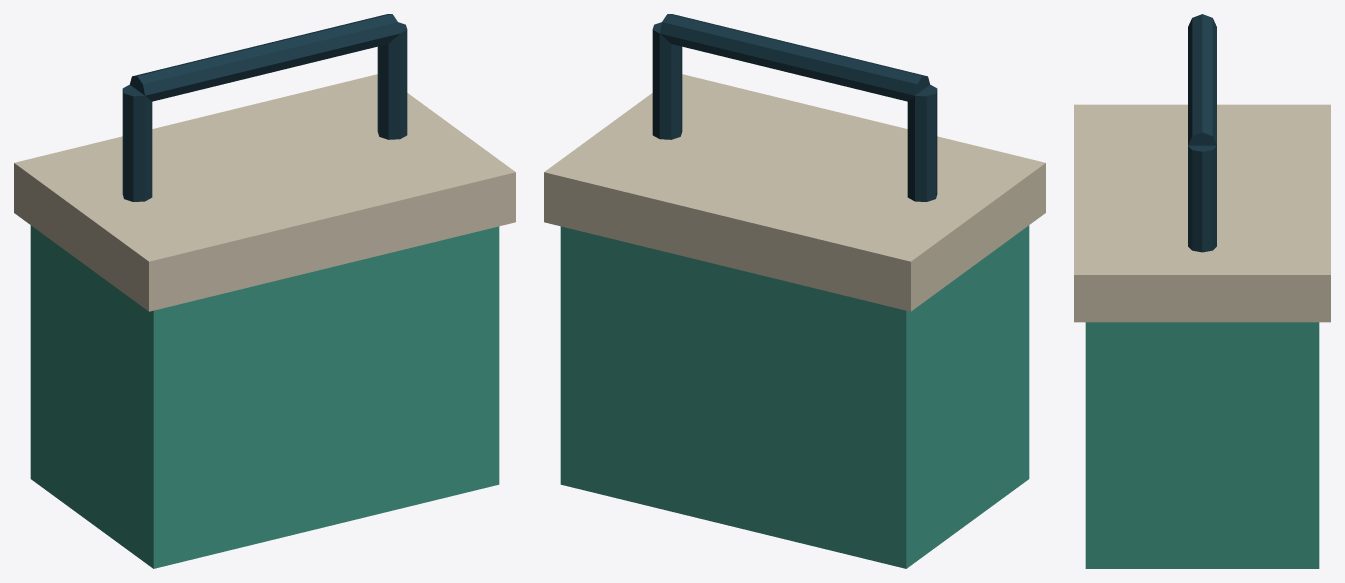
File: cooler.glb
3 views of the same model, side by side, from view 1: azimuth 30°, elevation 25°; view 2: azimuth 150°, elevation 25°; view 3: azimuth 270°, elevation 25° (orthographic). The views are drawn at different scales.
Visible parts, largest first — view 1: cooler_pc; view 2: cooler_pc; view 3: cooler_pc.
Boxes of the visible parts, x1,y1,x2,y2 form: cooler_pc: (14, 14, 515, 568); cooler_pc: (544, 14, 1045, 568); cooler_pc: (1074, 14, 1330, 568).
Bounding box in the file's own units: 0.69 × 0.785 × 0.44.
